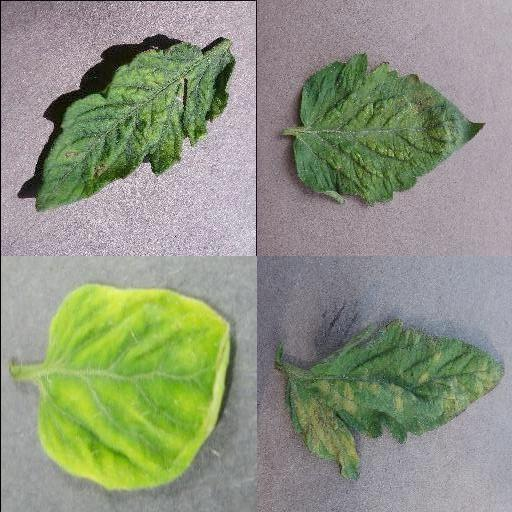Leaf Mold: (285, 321, 505, 481)
Mosaic Virus: (34, 40, 238, 214)
Spider Mites: (291, 53, 485, 207)
Yellow Leaf Curl Virus: (36, 283, 232, 495)
